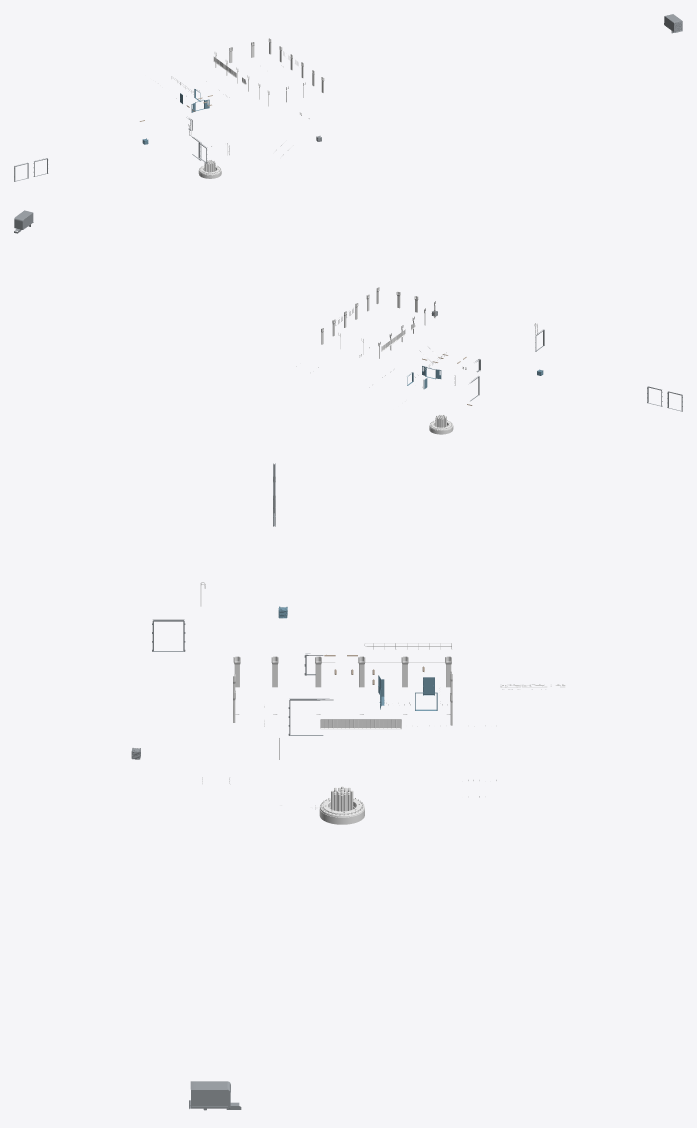
The picture shows the model from 3 angles, top to bottom: view 1: azimuth 30°, elevation 25°; view 2: azimuth 150°, elevation 25°; view 3: azimuth 270°, elevation 25°; orthographic projection. The views are drawn at different scales.
Parts seen in each view (by area): view 1: n0_lr0_agg_merge_hr_concrete_wall_006_color_0_fragment1, n0_lr0_agg_merge_nuke_reactor_vessel_head_color_0_fragment1, n0_lr0_agg_prop_nuke_truck_tailer02_color_0_fragment1; view 2: n0_lr0_agg_merge_hr_concrete_wall_006_color_0_fragment1, n0_lr0_agg_merge_nuke_reactor_vessel_head_color_0_fragment1; view 3: n0_lr0_agg_merge_hr_concrete_wall_006_color_0_fragment1, n0_lr0_agg_merge_nuke_reactor_vessel_head_color_0_fragment1, n0_lr0_agg_prop_nuke_truck_tailer02_color_0_fragment1, n0_lr0_c0_s_cb_b_nomerge32_window_001.meshset_0_c0_0.
Boxes of the visible parts, x1=… form: n0_lr0_agg_merge_hr_concrete_wall_006_color_0_fragment1: x1=214, y1=38, x2=324, y2=106; n0_lr0_agg_merge_nuke_reactor_vessel_head_color_0_fragment1: x1=198, y1=159, x2=221, y2=178; n0_lr0_agg_prop_nuke_truck_tailer02_color_0_fragment1: x1=664, y1=14, x2=682, y2=33; n0_lr0_agg_merge_hr_concrete_wall_006_color_0_fragment1: x1=321, y1=287, x2=435, y2=358; n0_lr0_agg_merge_nuke_reactor_vessel_head_color_0_fragment1: x1=429, y1=414, x2=453, y2=434; n0_lr0_agg_merge_hr_concrete_wall_006_color_0_fragment1: x1=233, y1=656, x2=452, y2=725; n0_lr0_agg_merge_nuke_reactor_vessel_head_color_0_fragment1: x1=319, y1=786, x2=364, y2=824; n0_lr0_agg_prop_nuke_truck_tailer02_color_0_fragment1: x1=189, y1=1081, x2=241, y2=1110; n0_lr0_c0_s_cb_b_nomerge32_window_001.meshset_0_c0_0: x1=320, y1=662, x2=444, y2=729.
Size of the model in its own units: 8548 by 1196 by 2480.
